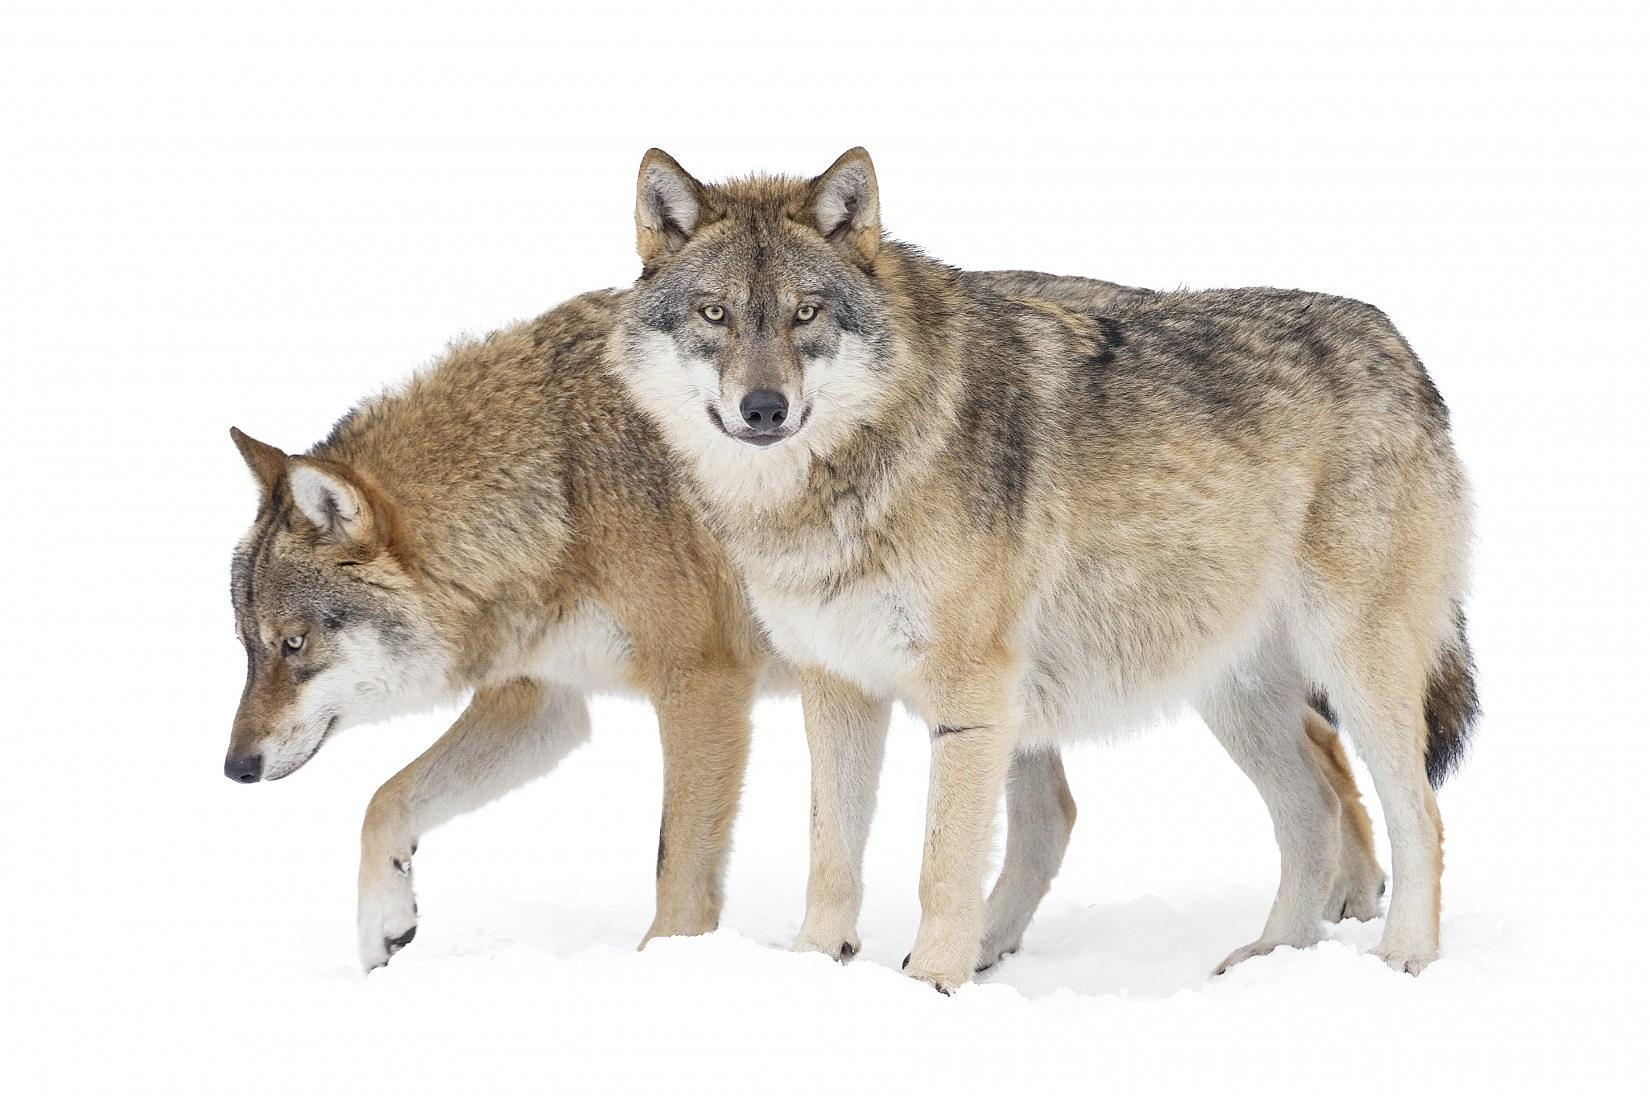Lobo: (610, 134, 1592, 970), (155, 257, 606, 990)
